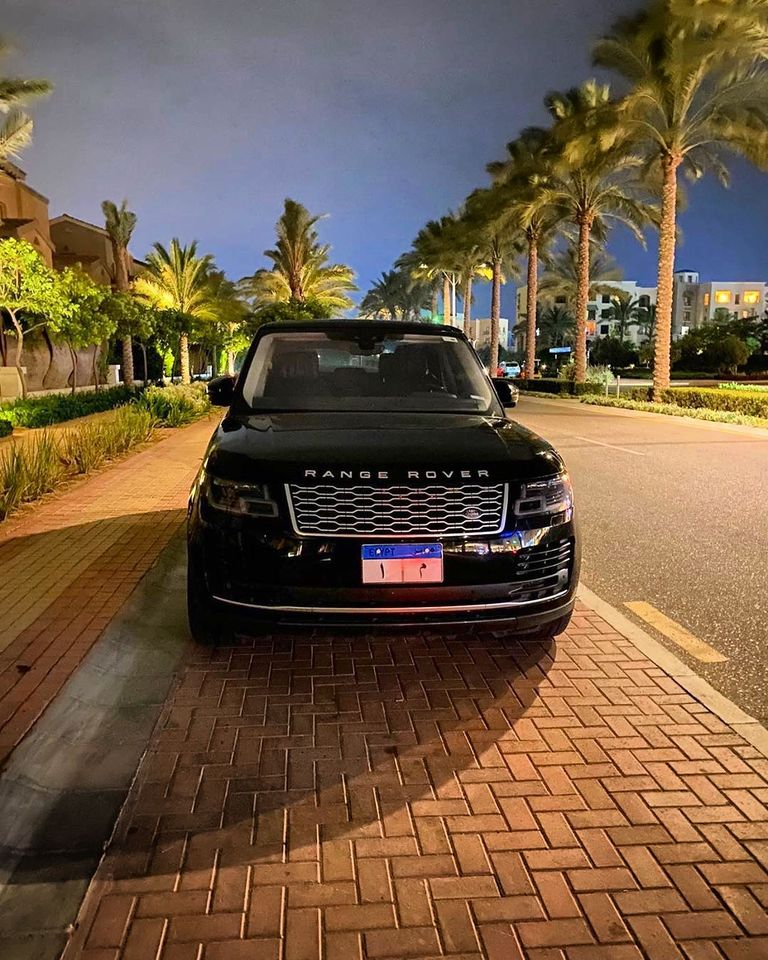carpl: (365, 556, 440, 581)
